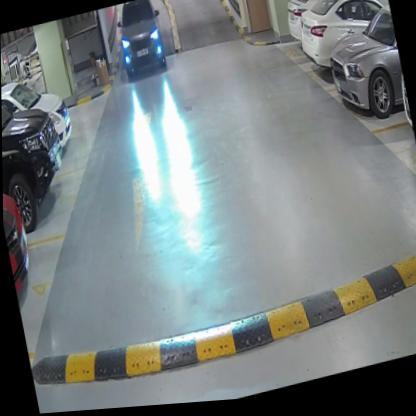np: (137, 50, 149, 60)
